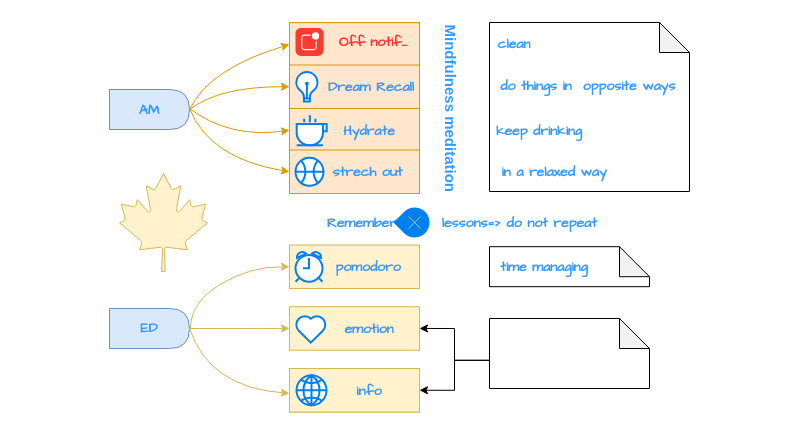
This 806x433 diagram has some shape labels left out. The shapes that lost their labels are listed below. From the top down, each one's box as (x1, y1, x2, y2) in pixels, then its label:
(118, 172, 208, 272): beet
(488, 318, 650, 388): long=term memory
